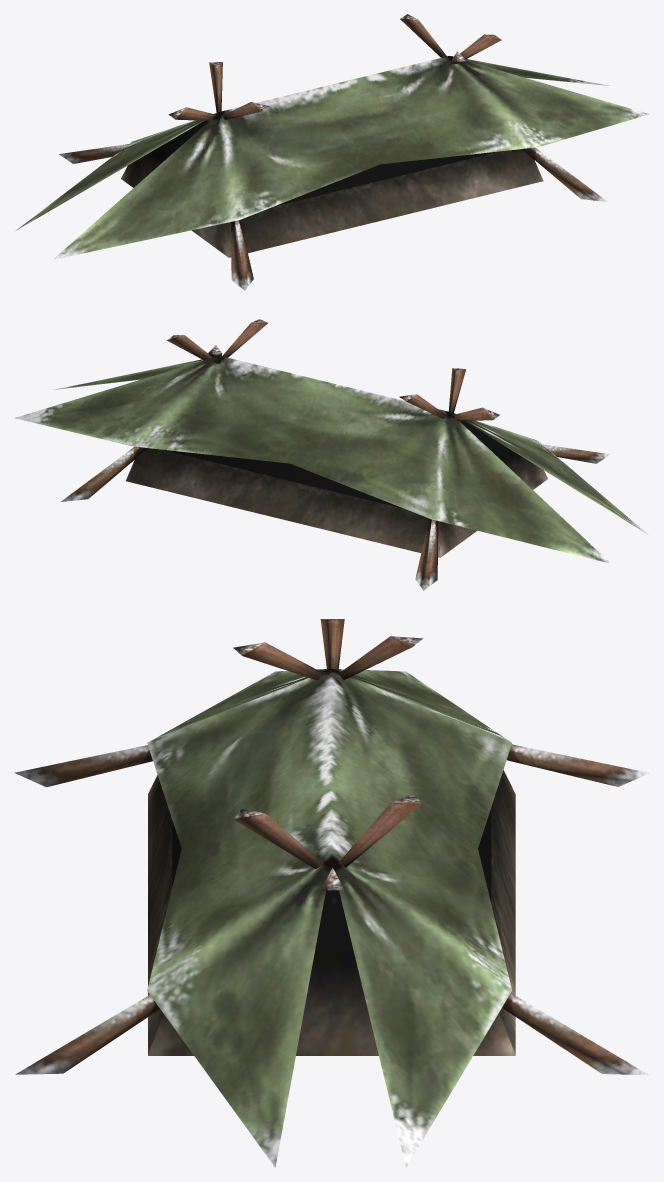
File: stbuho16.obj
The picture shows the model from 3 angles, top to bottom: view 1: azimuth 30°, elevation 25°; view 2: azimuth 150°, elevation 25°; view 3: azimuth 270°, elevation 25°; orthographic projection. The views are drawn at different scales.
Parts seen in each view (by area): view 1: r4_geom; view 2: r4_geom; view 3: r4_geom.
Part boxes in pixels (x1,y1,x2,y2): r4_geom: (16,14,649,290); r4_geom: (14,319,649,590); r4_geom: (14,619,649,1167).
Bounding box in the file's own units: 8.1 × 1.58 × 4.38.
